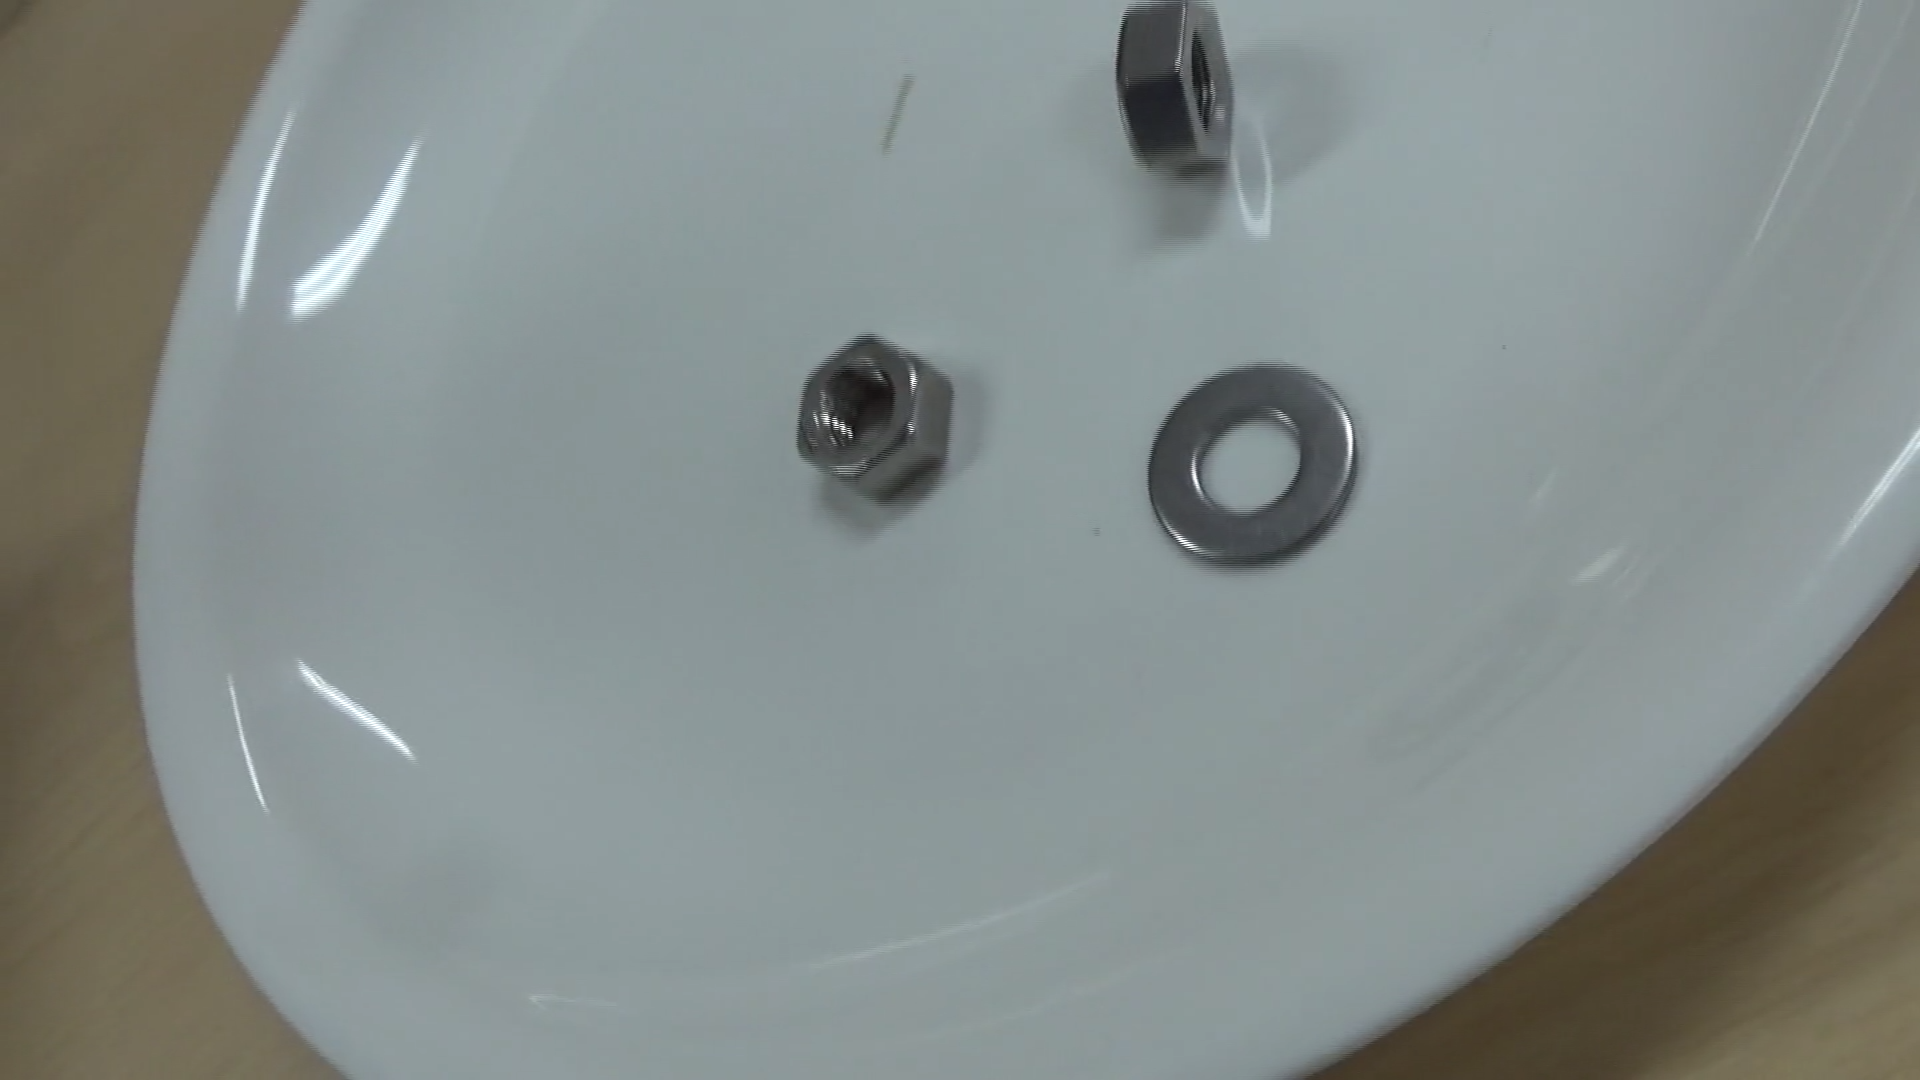nut: (762, 291, 973, 520), (1065, 0, 1274, 183)
washer: (1113, 320, 1383, 603)
